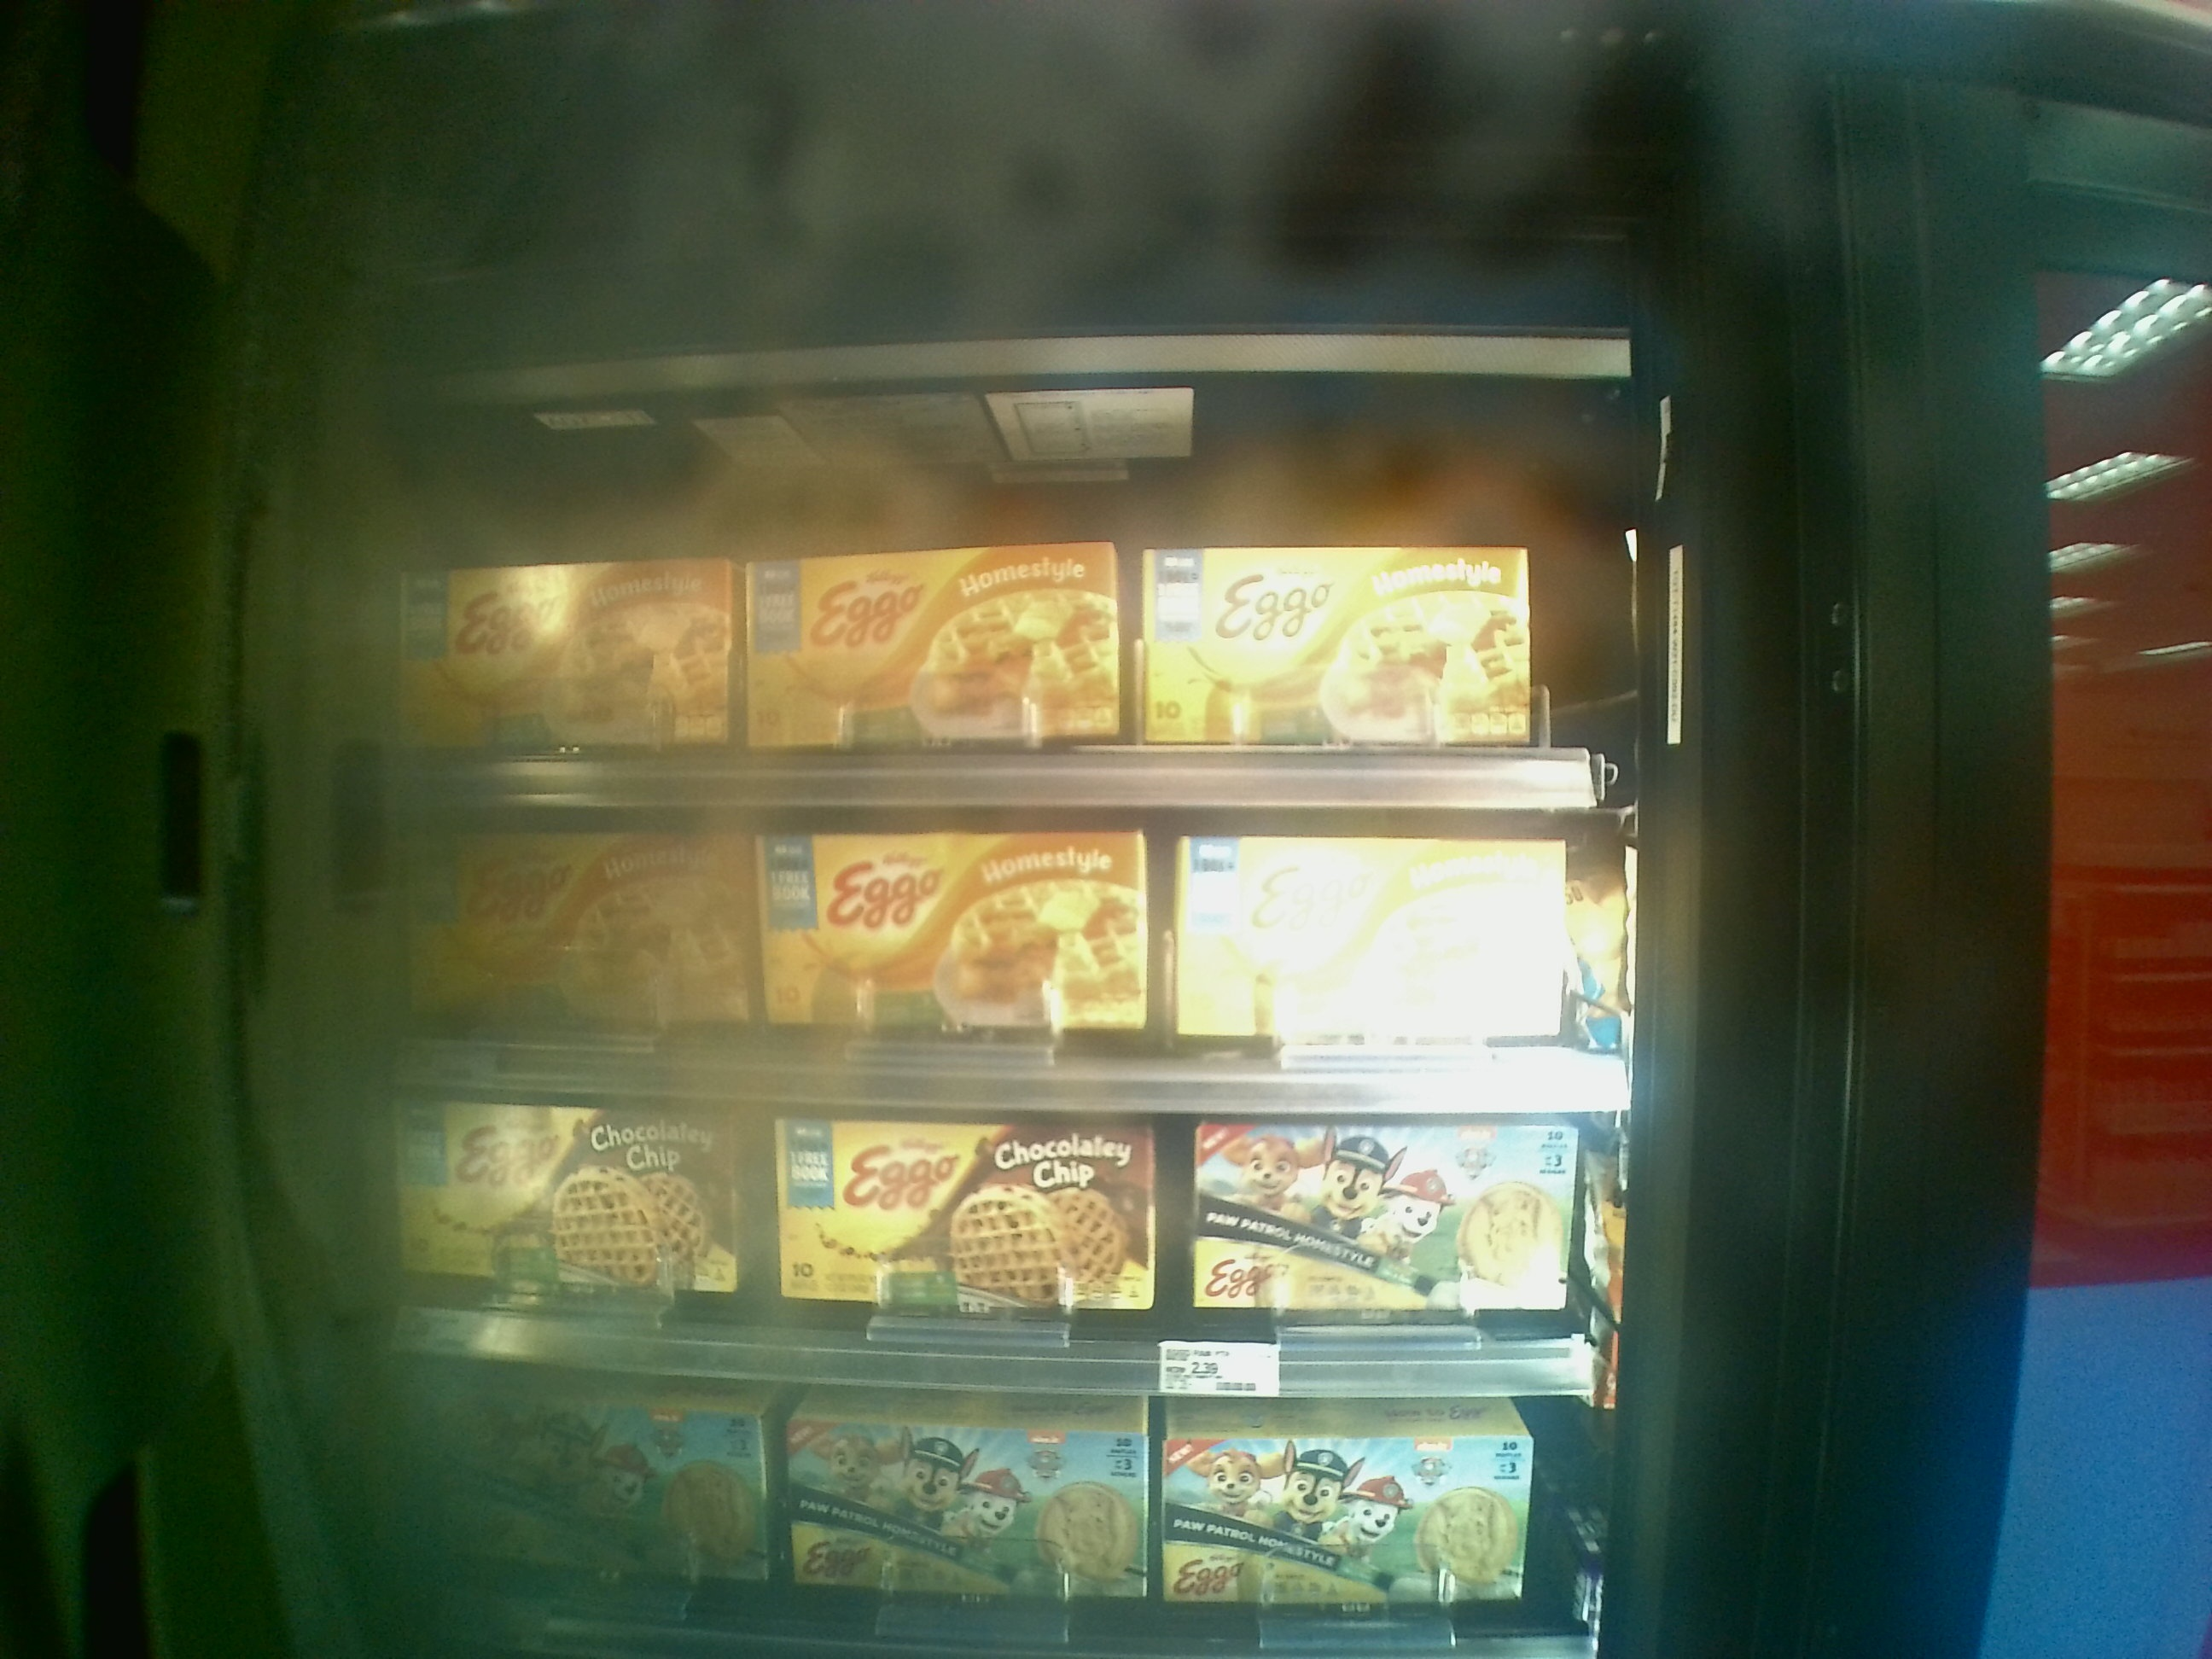shelf: (354, 462, 1609, 807), (350, 1100, 1634, 1410), (348, 802, 1629, 1105)
